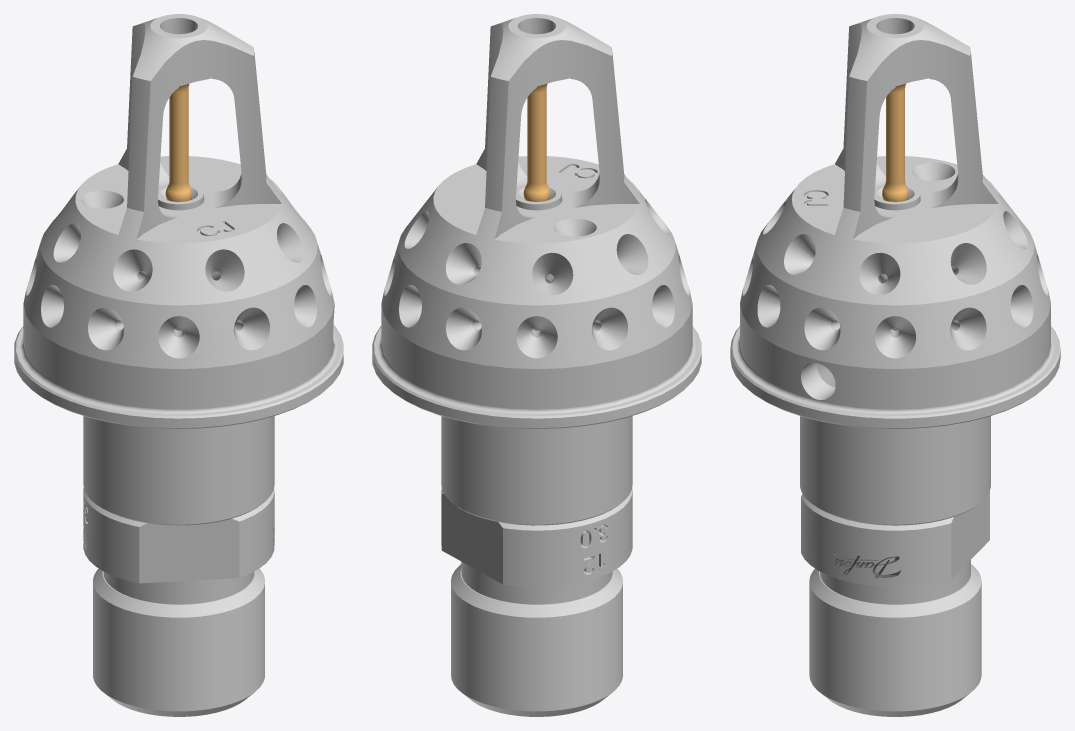
Rendered from Nozzle.glb.
3 views of the same model, side by side, from view 1: azimuth 30°, elevation 25°; view 2: azimuth 150°, elevation 25°; view 3: azimuth 270°, elevation 25° (orthographic).
Parts seen in each view (by area): view 1: Solid1, Solid1.007, Solid1.010, Solid1.002, Solid1.004; view 2: Solid1, Solid1.007, Solid1.010, Solid1.002, Solid1.004; view 3: Solid1, Solid1.007, Solid1.010, Solid1.002, Solid1.004.
Part boxes in pixels (bbox=[...]): Solid1: bbox=[14, 14, 343, 525]; Solid1.007: bbox=[83, 487, 274, 716]; Solid1.010: bbox=[93, 584, 264, 711]; Solid1.002: bbox=[165, 83, 192, 201]; Solid1.004: bbox=[158, 184, 203, 210]; Solid1: bbox=[372, 14, 701, 525]; Solid1.007: bbox=[441, 487, 632, 716]; Solid1.010: bbox=[451, 583, 622, 711]; Solid1.002: bbox=[523, 83, 550, 201]; Solid1.004: bbox=[516, 184, 561, 210]; Solid1: bbox=[730, 14, 1060, 525]; Solid1.007: bbox=[801, 491, 989, 716]; Solid1.010: bbox=[809, 582, 981, 711]; Solid1.002: bbox=[882, 83, 908, 201]; Solid1.004: bbox=[874, 184, 920, 210].
Bounding box in the file's own units: 0.0344 × 0.076 × 0.0345.
